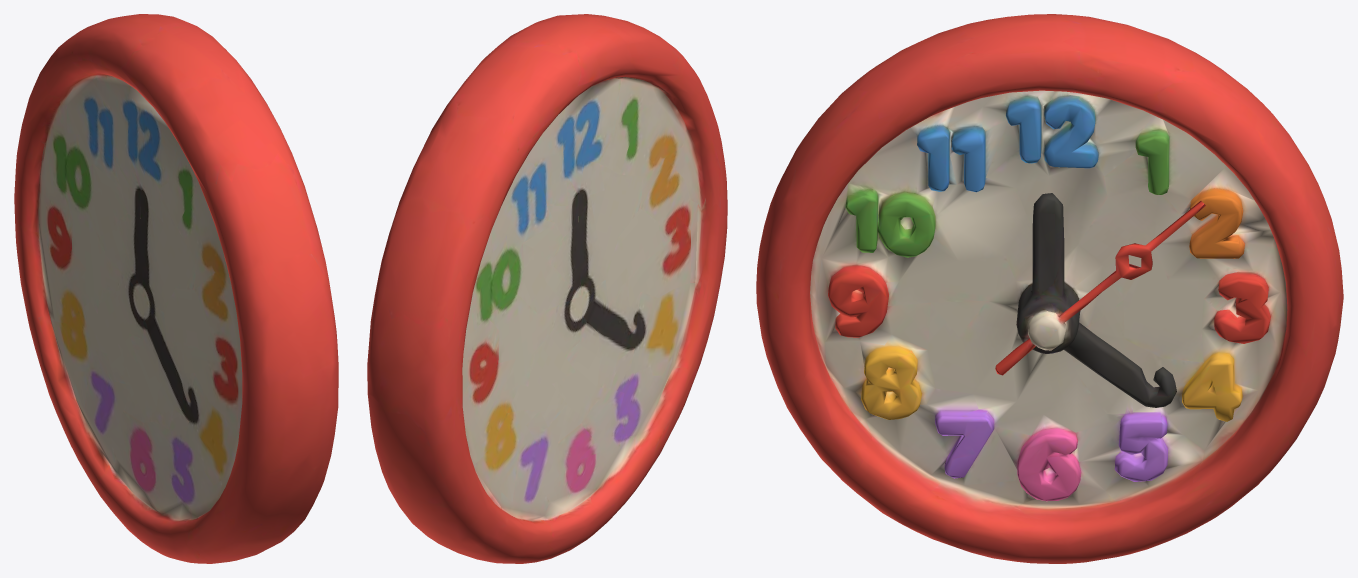
File: wall_clock.glb
3 views of the same model, side by side, from view 1: azimuth 30°, elevation 25°; view 2: azimuth 150°, elevation 25°; view 3: azimuth 270°, elevation 25° (orthographic). The views are drawn at different scales.
Visible parts, largest first — view 1: tripo_node_1e665d93-ae7e-4fa7-b079-83187a245347; view 2: tripo_node_1e665d93-ae7e-4fa7-b079-83187a245347; view 3: tripo_node_1e665d93-ae7e-4fa7-b079-83187a245347.
Part boxes in pixels (x1,y1,x2,y2): tripo_node_1e665d93-ae7e-4fa7-b079-83187a245347: (14, 14, 338, 563); tripo_node_1e665d93-ae7e-4fa7-b079-83187a245347: (367, 14, 727, 563); tripo_node_1e665d93-ae7e-4fa7-b079-83187a245347: (756, 14, 1343, 563).
Size of the model in its own units: 0.0605 by 0.25 by 0.2506.
Materials: 1 (1 with a texture image).
